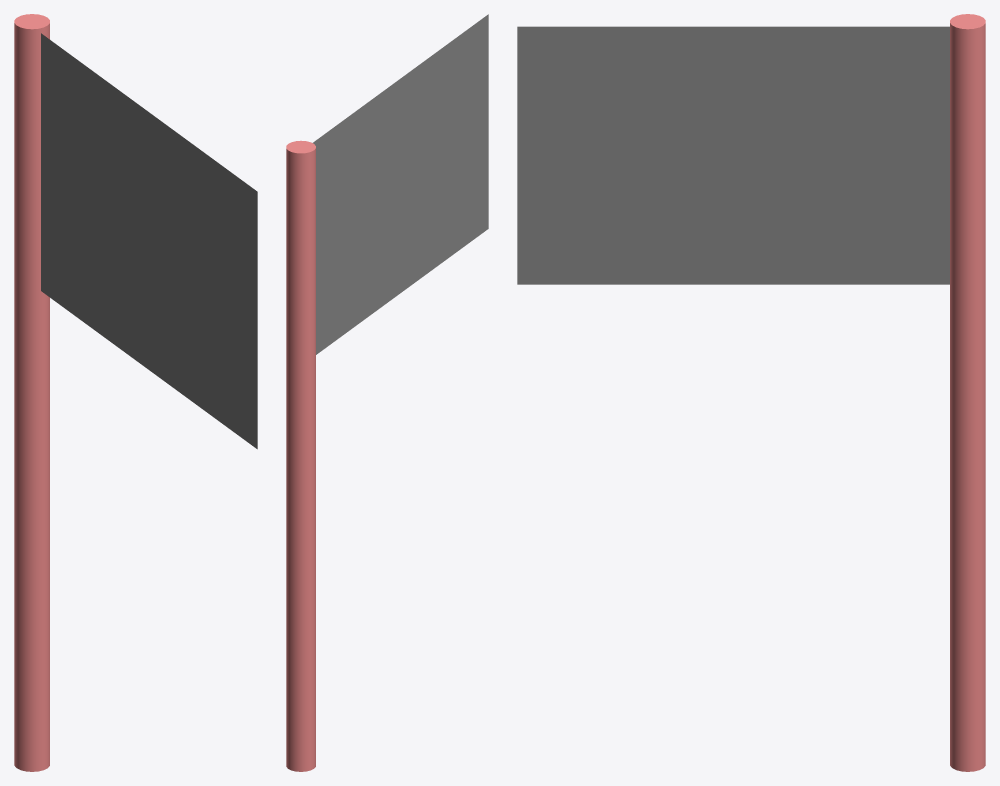
File: EndFlag.FBX
The picture shows the model from 3 angles, left to right: view 1: azimuth 30°, elevation 25°; view 2: azimuth 150°, elevation 25°; view 3: azimuth 270°, elevation 25°; orthographic projection. The views are drawn at different scales.
Parts seen in each view (by area): view 1: Plane001; view 2: Plane001; view 3: Plane001.
Part boxes in pixels (bbox=[...]): Plane001: bbox=[14, 14, 257, 771]; Plane001: bbox=[286, 14, 488, 771]; Plane001: bbox=[517, 14, 985, 771].
Bounding box in the file's own units: 4.4 × 99.74 × 57.02.
